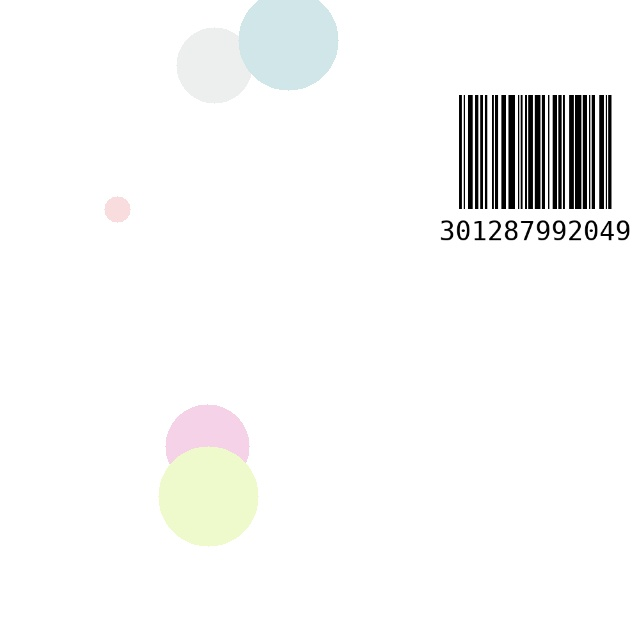barcode: (440, 88, 631, 267)
